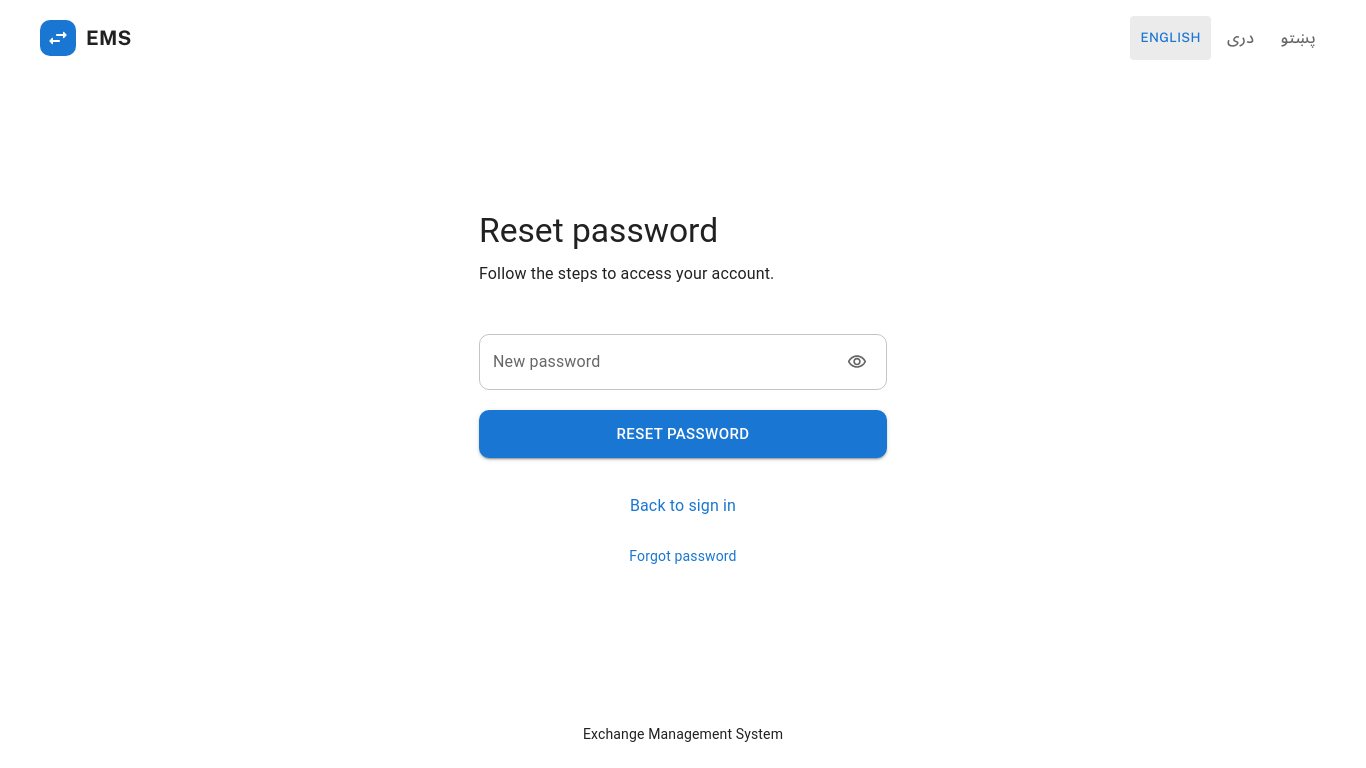
Test: reset without a link token explains how to recover without submitting
Type "new-password123" into the password field labelled "New password" at (653, 362), box [479,334,827,390]
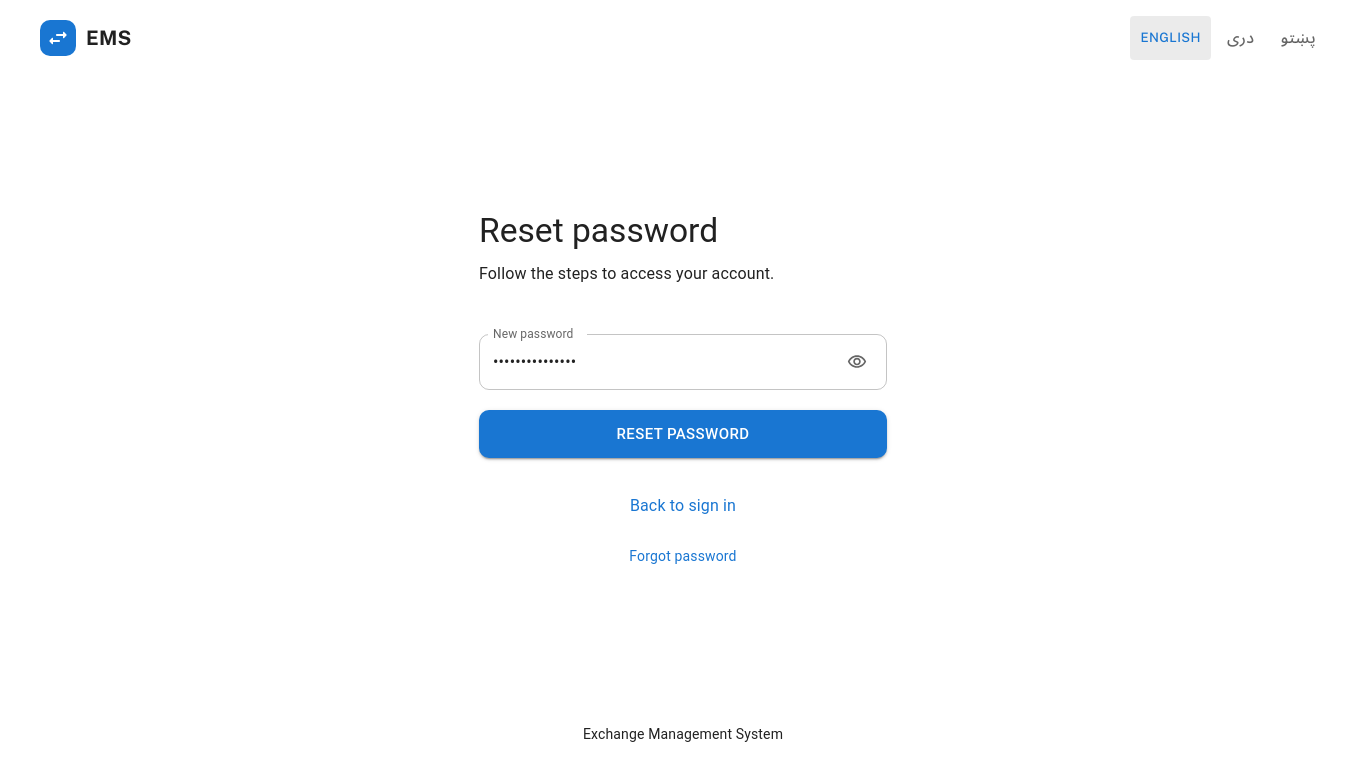
Click the button "Reset password" at (683, 434), box [479,410,887,458]
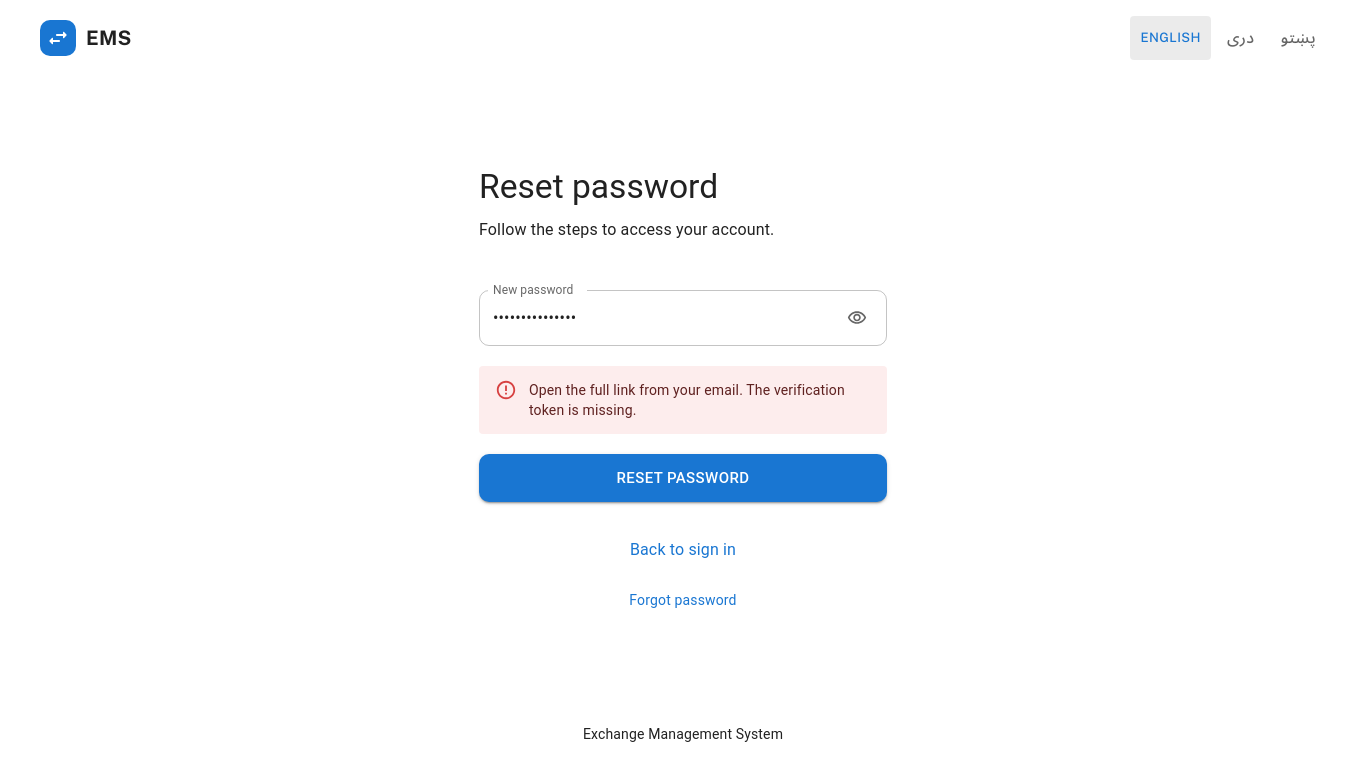
Check: the text "Open the full link from your email. The verification token is missing." is shown, box [529,372,871,428]
